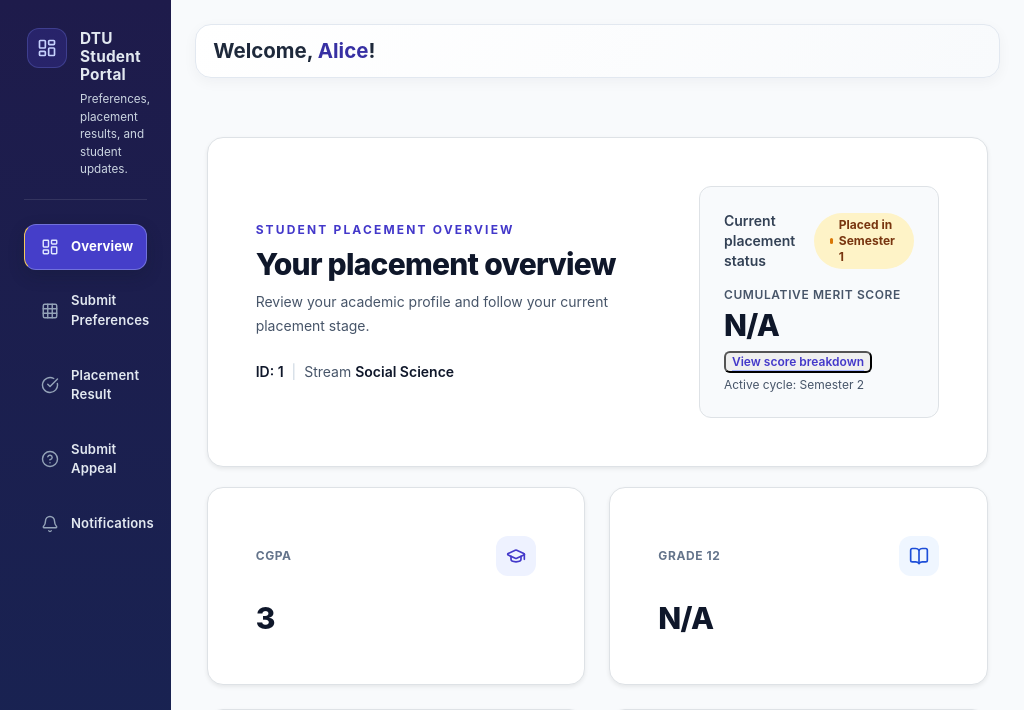
Scenario: StudentDashboard › opens Semester 2 preferences for students allocated during Semester 1 placement
This screenshot has width=1024, height=710.
Step 1. Click the button "Submit Preferences" → point(85, 311), box [24,278,147,344]
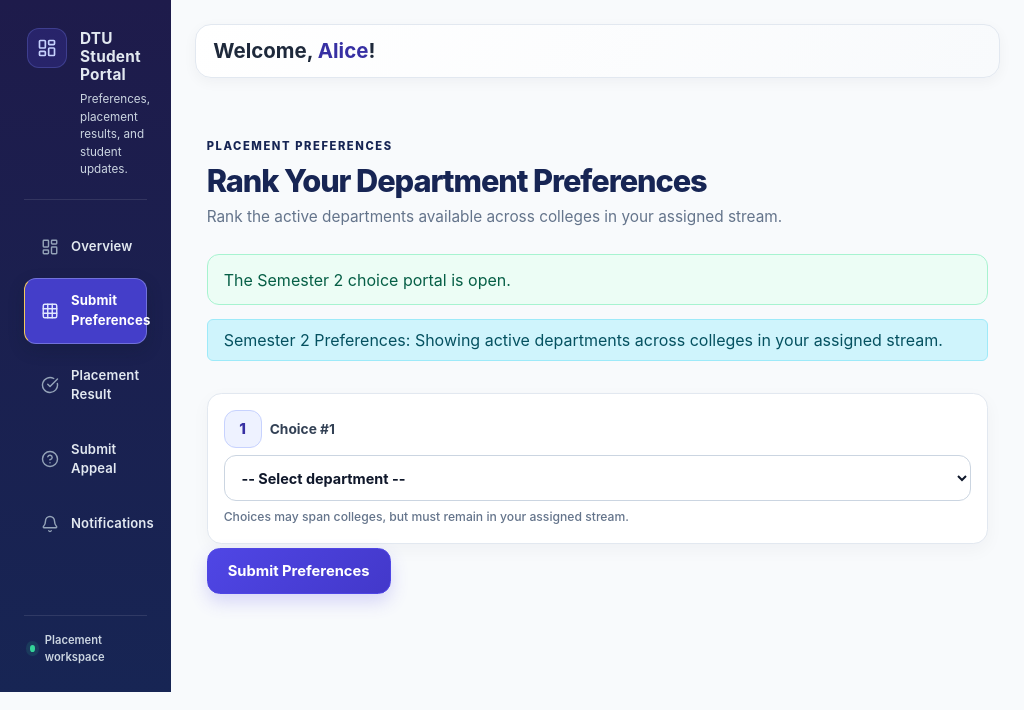
Expected: the dropdown labelled "Choice #1" is enabled, [224,455,971,501]
